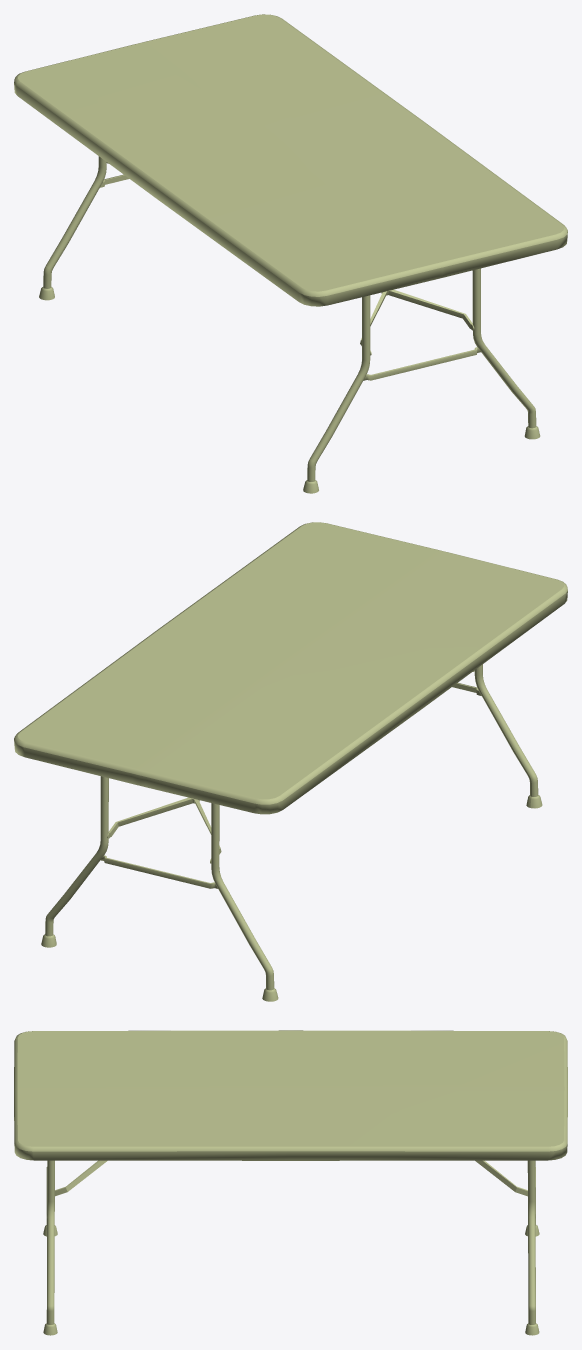
The model's file is Folding_table.fbx.
3 views of the same model, one above another, from view 1: azimuth 30°, elevation 25°; view 2: azimuth 150°, elevation 25°; view 3: azimuth 270°, elevation 25° (orthographic). The views are drawn at different scales.
Parts seen in each view (by area): view 1: Tabletop_low, table_legC1_low, table_legC_low, table_legB1_low; view 2: Tabletop_low, table_legC_low, table_legC1_low, table_legB_low; view 3: Tabletop_low, table_legC1_low, table_legC_low.
Boxes of the visible parts, box(x1,y1,x2,y2) form: Tabletop_low: box(14, 14, 567, 306); table_legC1_low: box(303, 268, 540, 493); table_legC_low: box(39, 156, 129, 300); table_legB1_low: box(360, 289, 474, 355); Tabletop_low: box(14, 522, 567, 814); table_legC_low: box(41, 776, 278, 1001); table_legC1_low: box(452, 664, 542, 808); table_legB_low: box(107, 797, 221, 863); Tabletop_low: box(14, 1030, 567, 1160); table_legC1_low: box(43, 1160, 57, 1335); table_legC_low: box(525, 1160, 539, 1335).
Size of the model in its own units: 1.25 by 0.9571 by 2.45.
